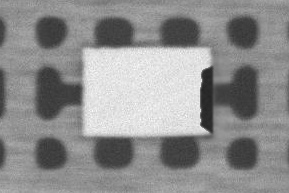DIE_BROKEN: (196, 65, 213, 132)
